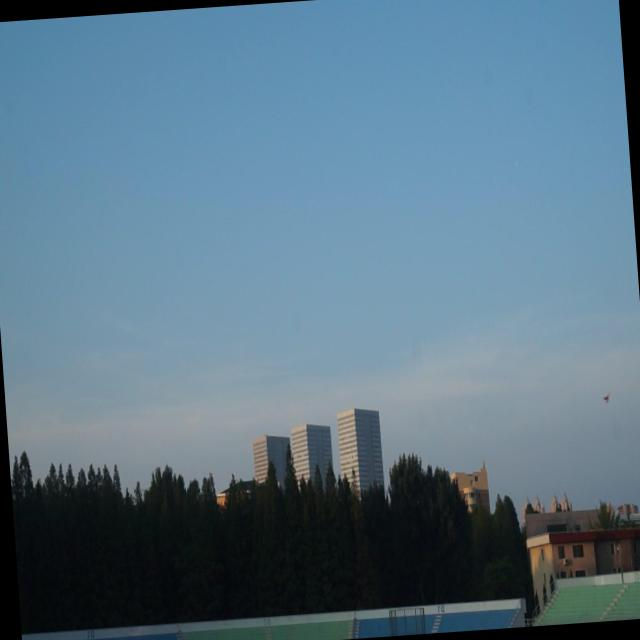drone: (600, 390, 613, 405)
